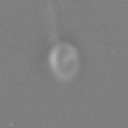normal: (38, 1, 72, 40)
